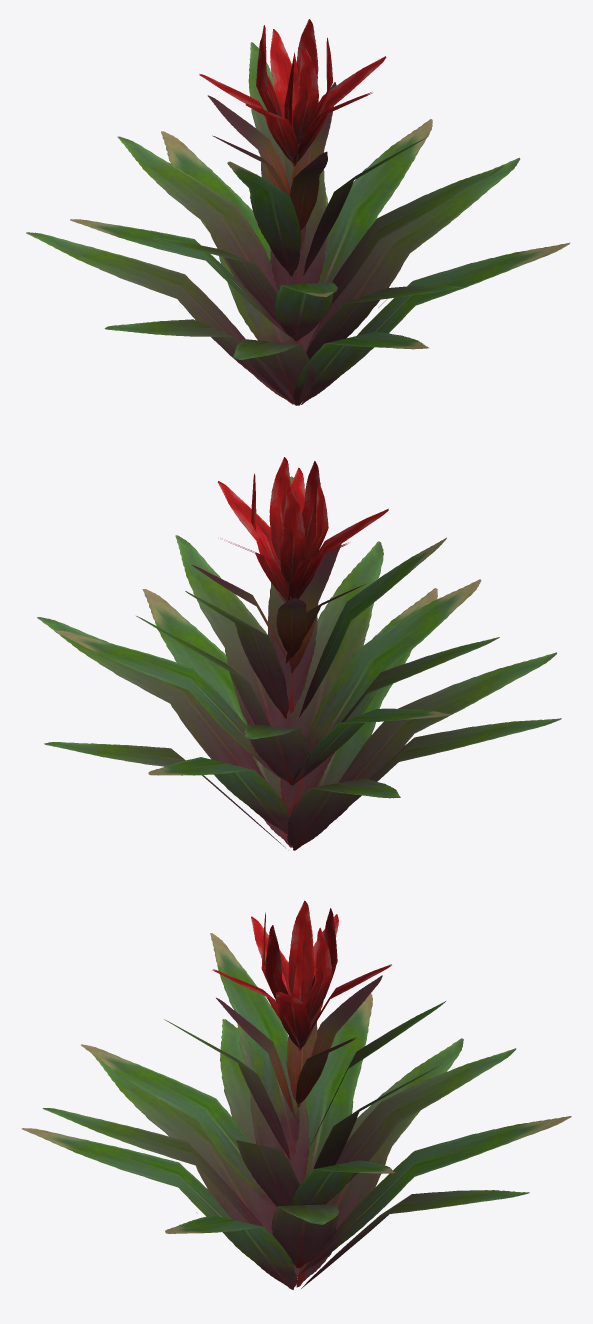
File: shrub_tropic_plant_flower.glb
The picture shows the model from 3 angles, top to bottom: view 1: azimuth 30°, elevation 25°; view 2: azimuth 150°, elevation 25°; view 3: azimuth 270°, elevation 25°; orthographic projection. The views are drawn at different scales.
Visible parts, largest first — view 1: shrub_tropic_plant_flower; view 2: shrub_tropic_plant_flower; view 3: shrub_tropic_plant_flower.
Boxes of the visible parts, bbox=[...] form: shrub_tropic_plant_flower: bbox=[26, 19, 569, 405]; shrub_tropic_plant_flower: bbox=[37, 457, 561, 850]; shrub_tropic_plant_flower: bbox=[22, 900, 571, 1289].
Size of the model in its own units: 4.73 by 3.48 by 4.7.
1 material, 1 textured.
